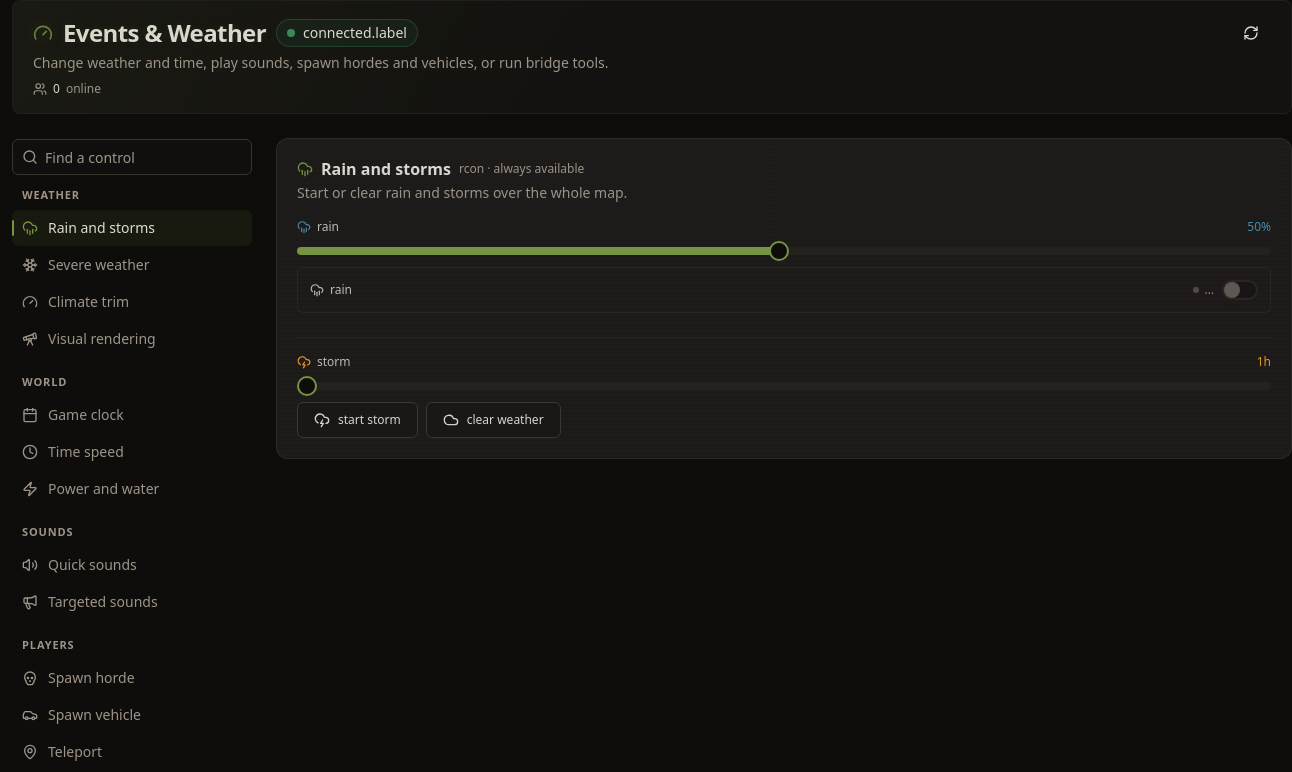
it: Events -- climate sliders bind to the real per-float range, not a hardcoded one › binds each climate slider to the min/max getClimateFloats reports on the wire
Click the button "Climate trim" at (132, 302), box [12,284,252,320]
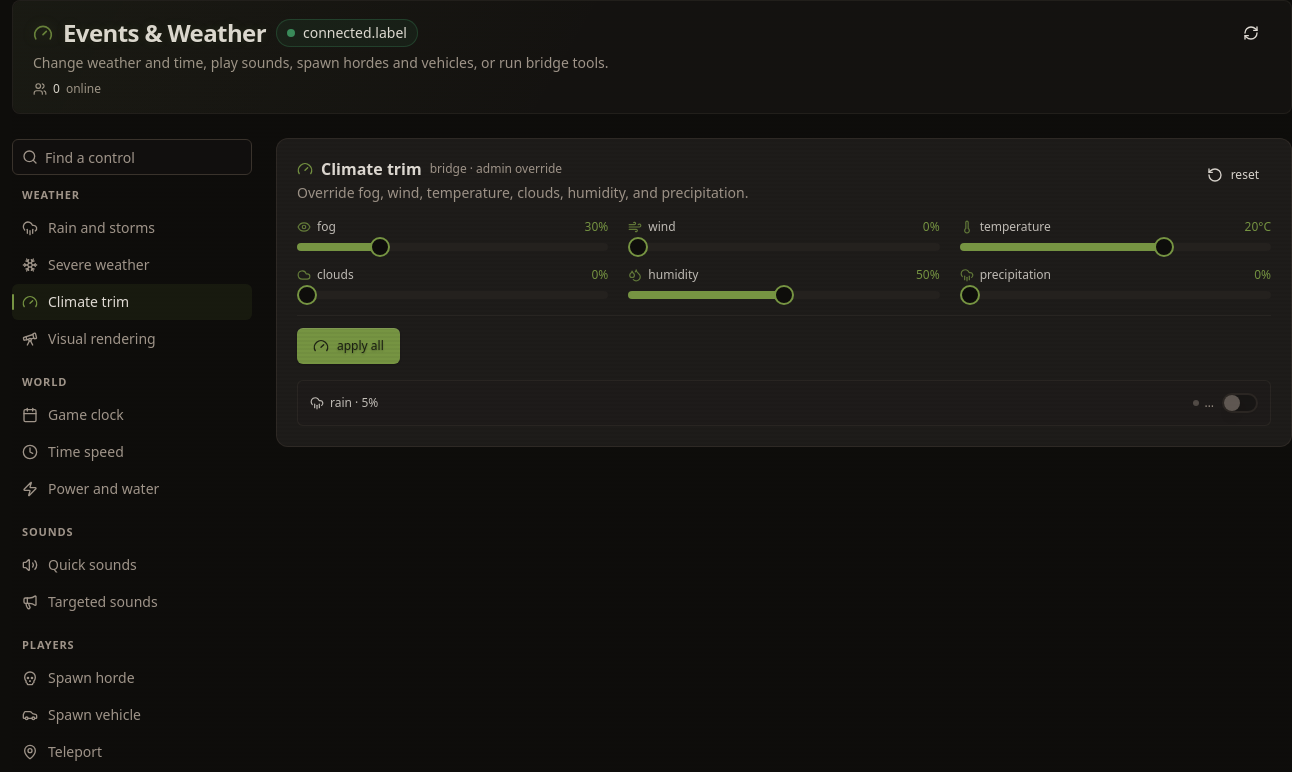
Expected: the number of sliders is 6, [370,237,390,257]; [628,237,648,257]; [1154,237,1174,257]; [297,285,317,305]; [774,285,794,305]; [960,285,980,305]
